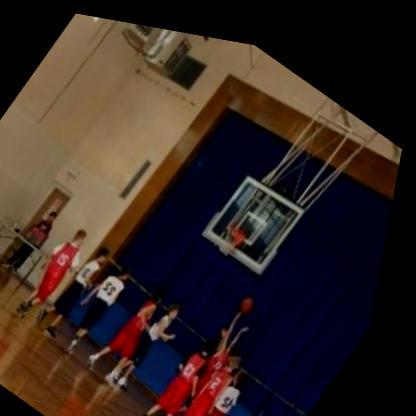basketball: (243, 280, 268, 308)
